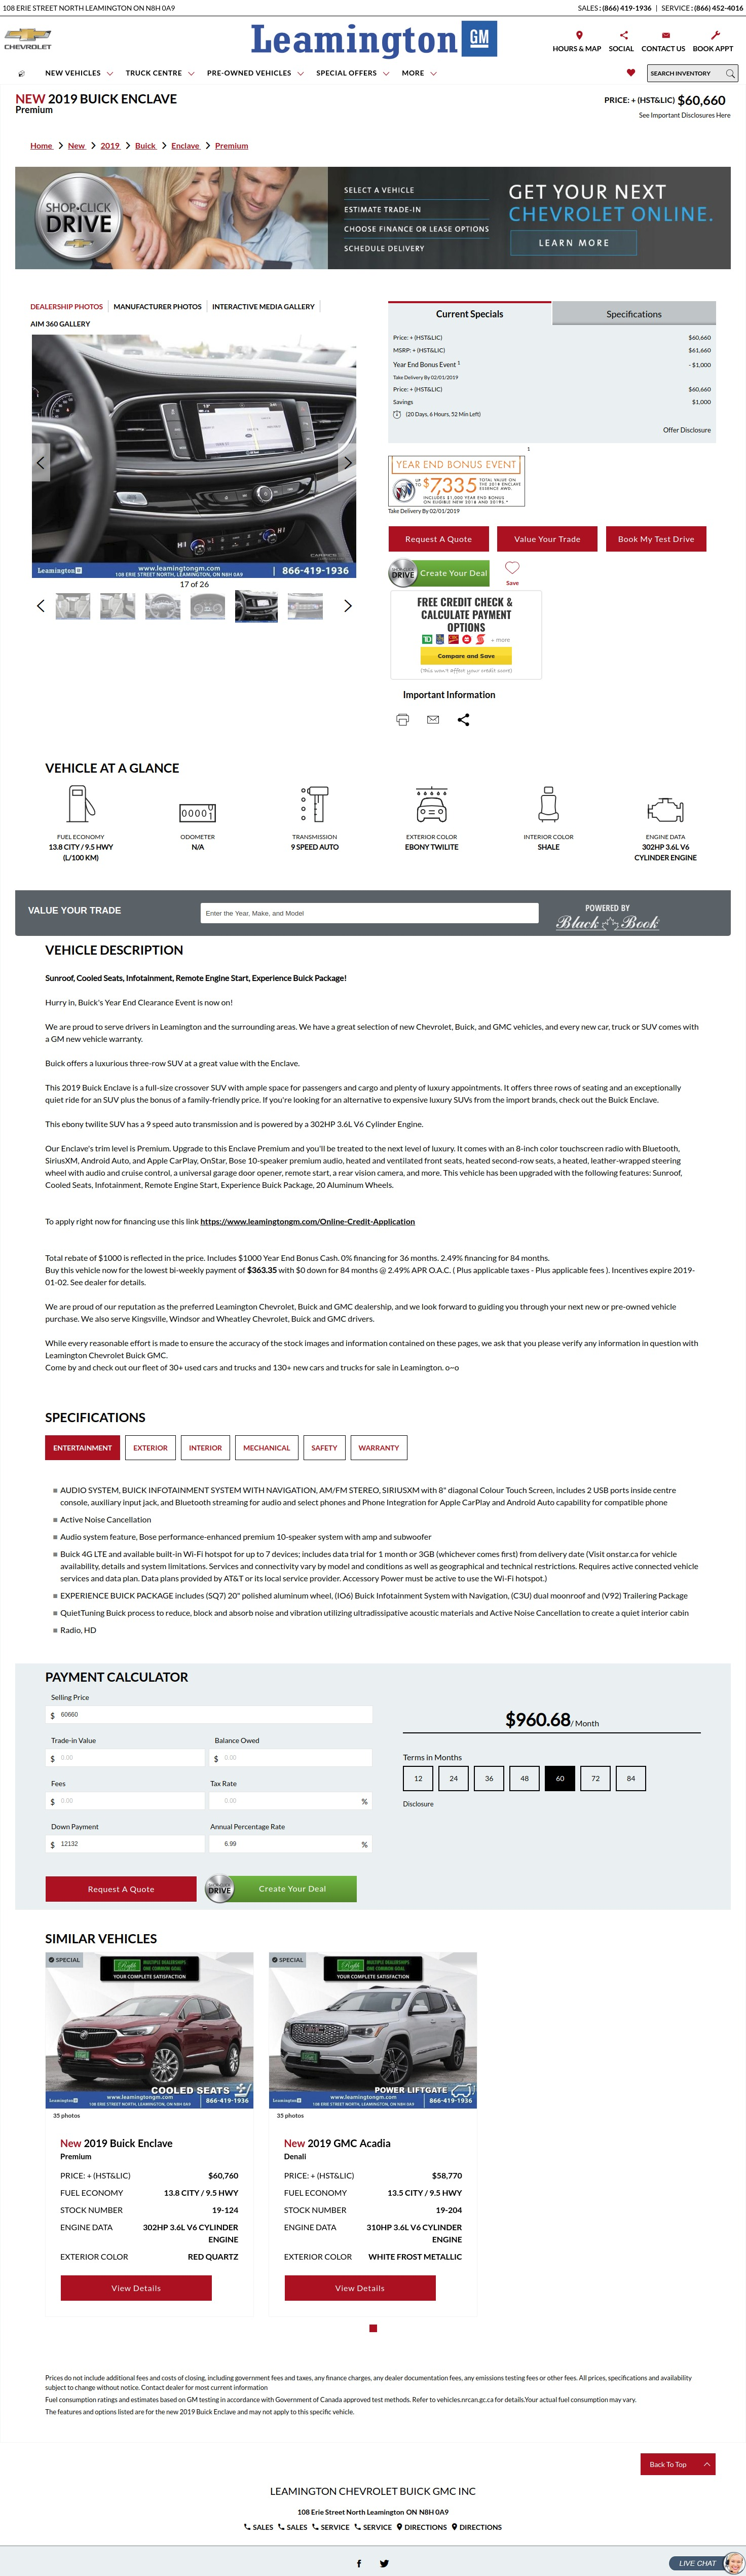car: (343, 598, 353, 614)
